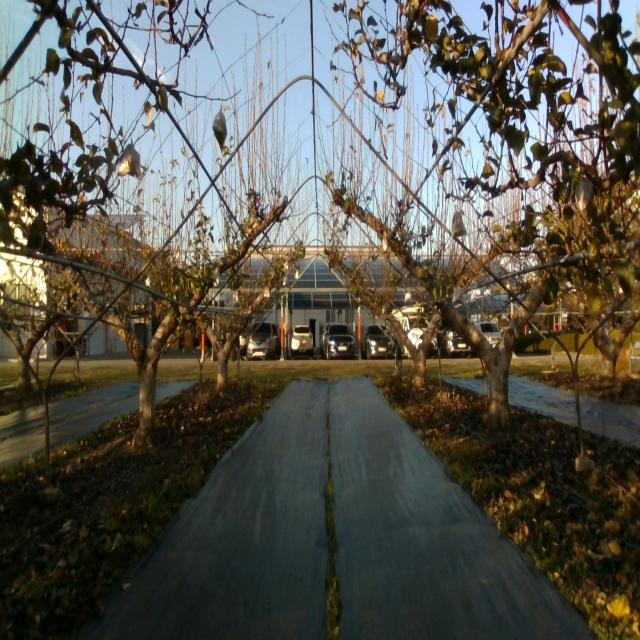pearbags: (575, 175, 595, 224), (116, 142, 142, 179), (212, 110, 228, 151), (451, 212, 466, 239), (452, 287, 464, 306)
